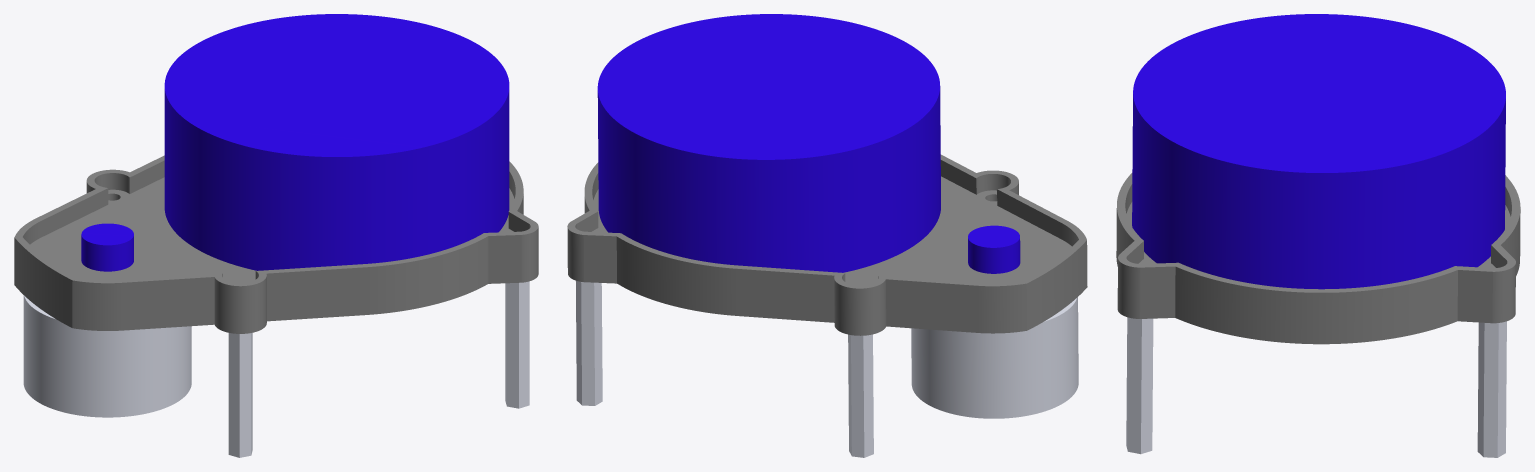
Rendered from YDLidarX4_copy.dae.
3 views of the same model, side by side, from view 1: azimuth 30°, elevation 25°; view 2: azimuth 150°, elevation 25°; view 3: azimuth 270°, elevation 25° (orthographic). The views are drawn at different scales.
Visible parts, largest first — view 1: ID2; view 2: ID2; view 3: ID2.
Part boxes in pixels (x1,y1,x2,y2): ID2: (14, 14, 538, 457); ID2: (567, 14, 1087, 457); ID2: (1116, 14, 1520, 457).
Bounding box in the file's own units: 0.1016 × 0.0711 × 0.0596.
